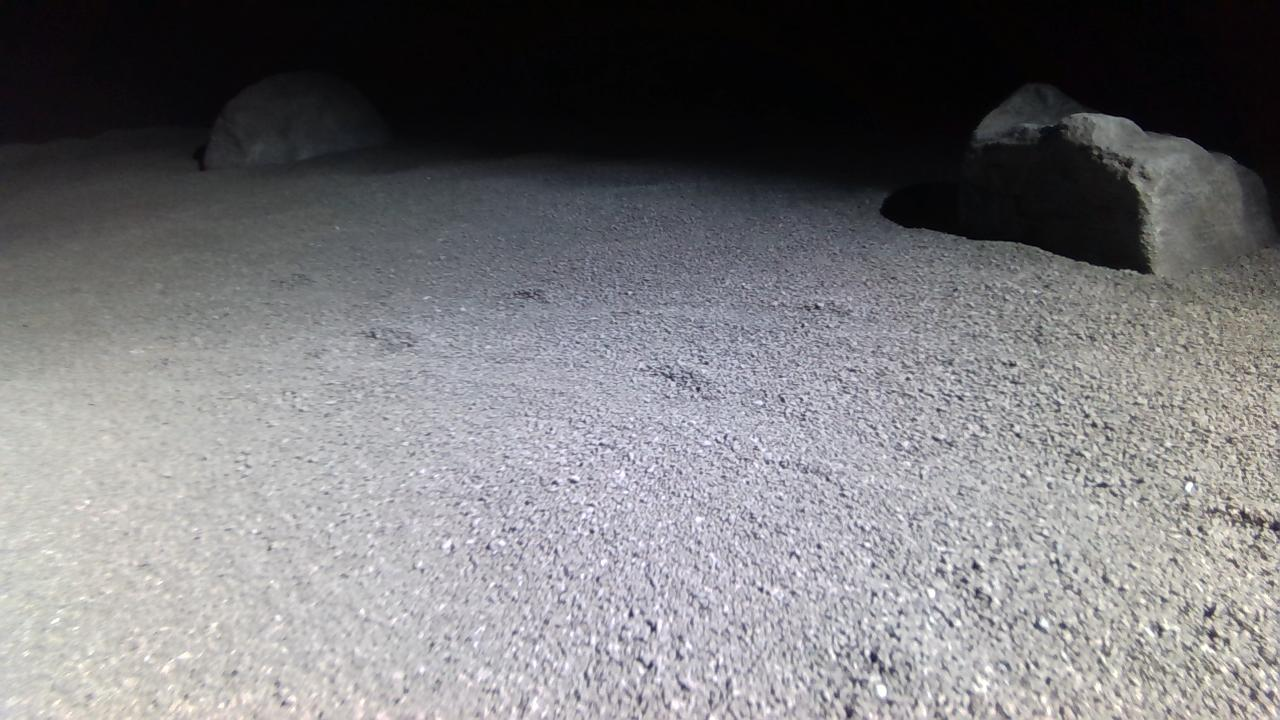rock: (961, 82, 1280, 275), (203, 70, 391, 168)
